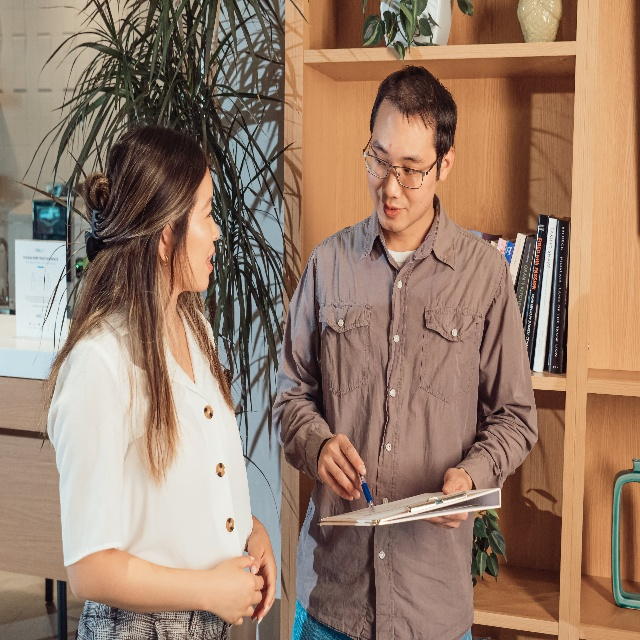Gafas: (362, 137, 442, 190)
Sin_guantes: (206, 554, 264, 626), (317, 432, 366, 502), (248, 519, 278, 626), (422, 466, 470, 530)
